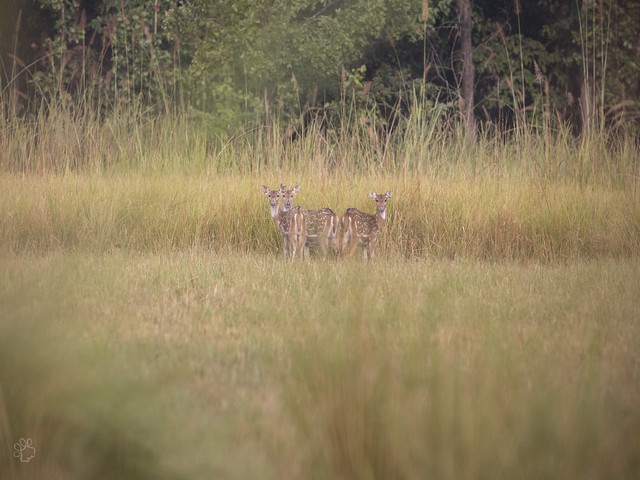deer: (263, 185, 338, 256), (343, 185, 400, 262)
